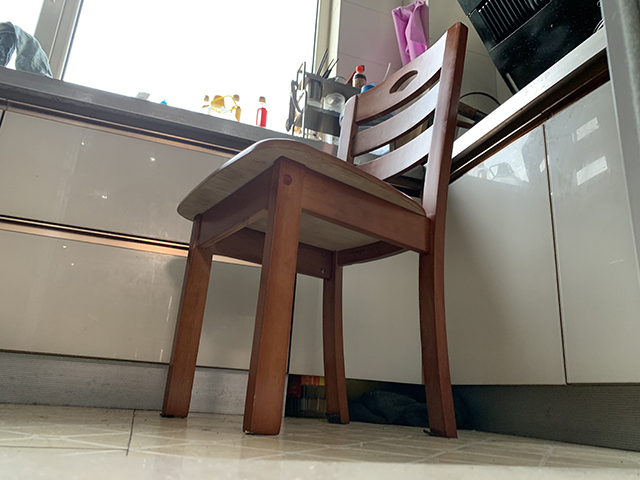cabinet: (1, 23, 640, 452)
stool: (158, 20, 470, 440)
